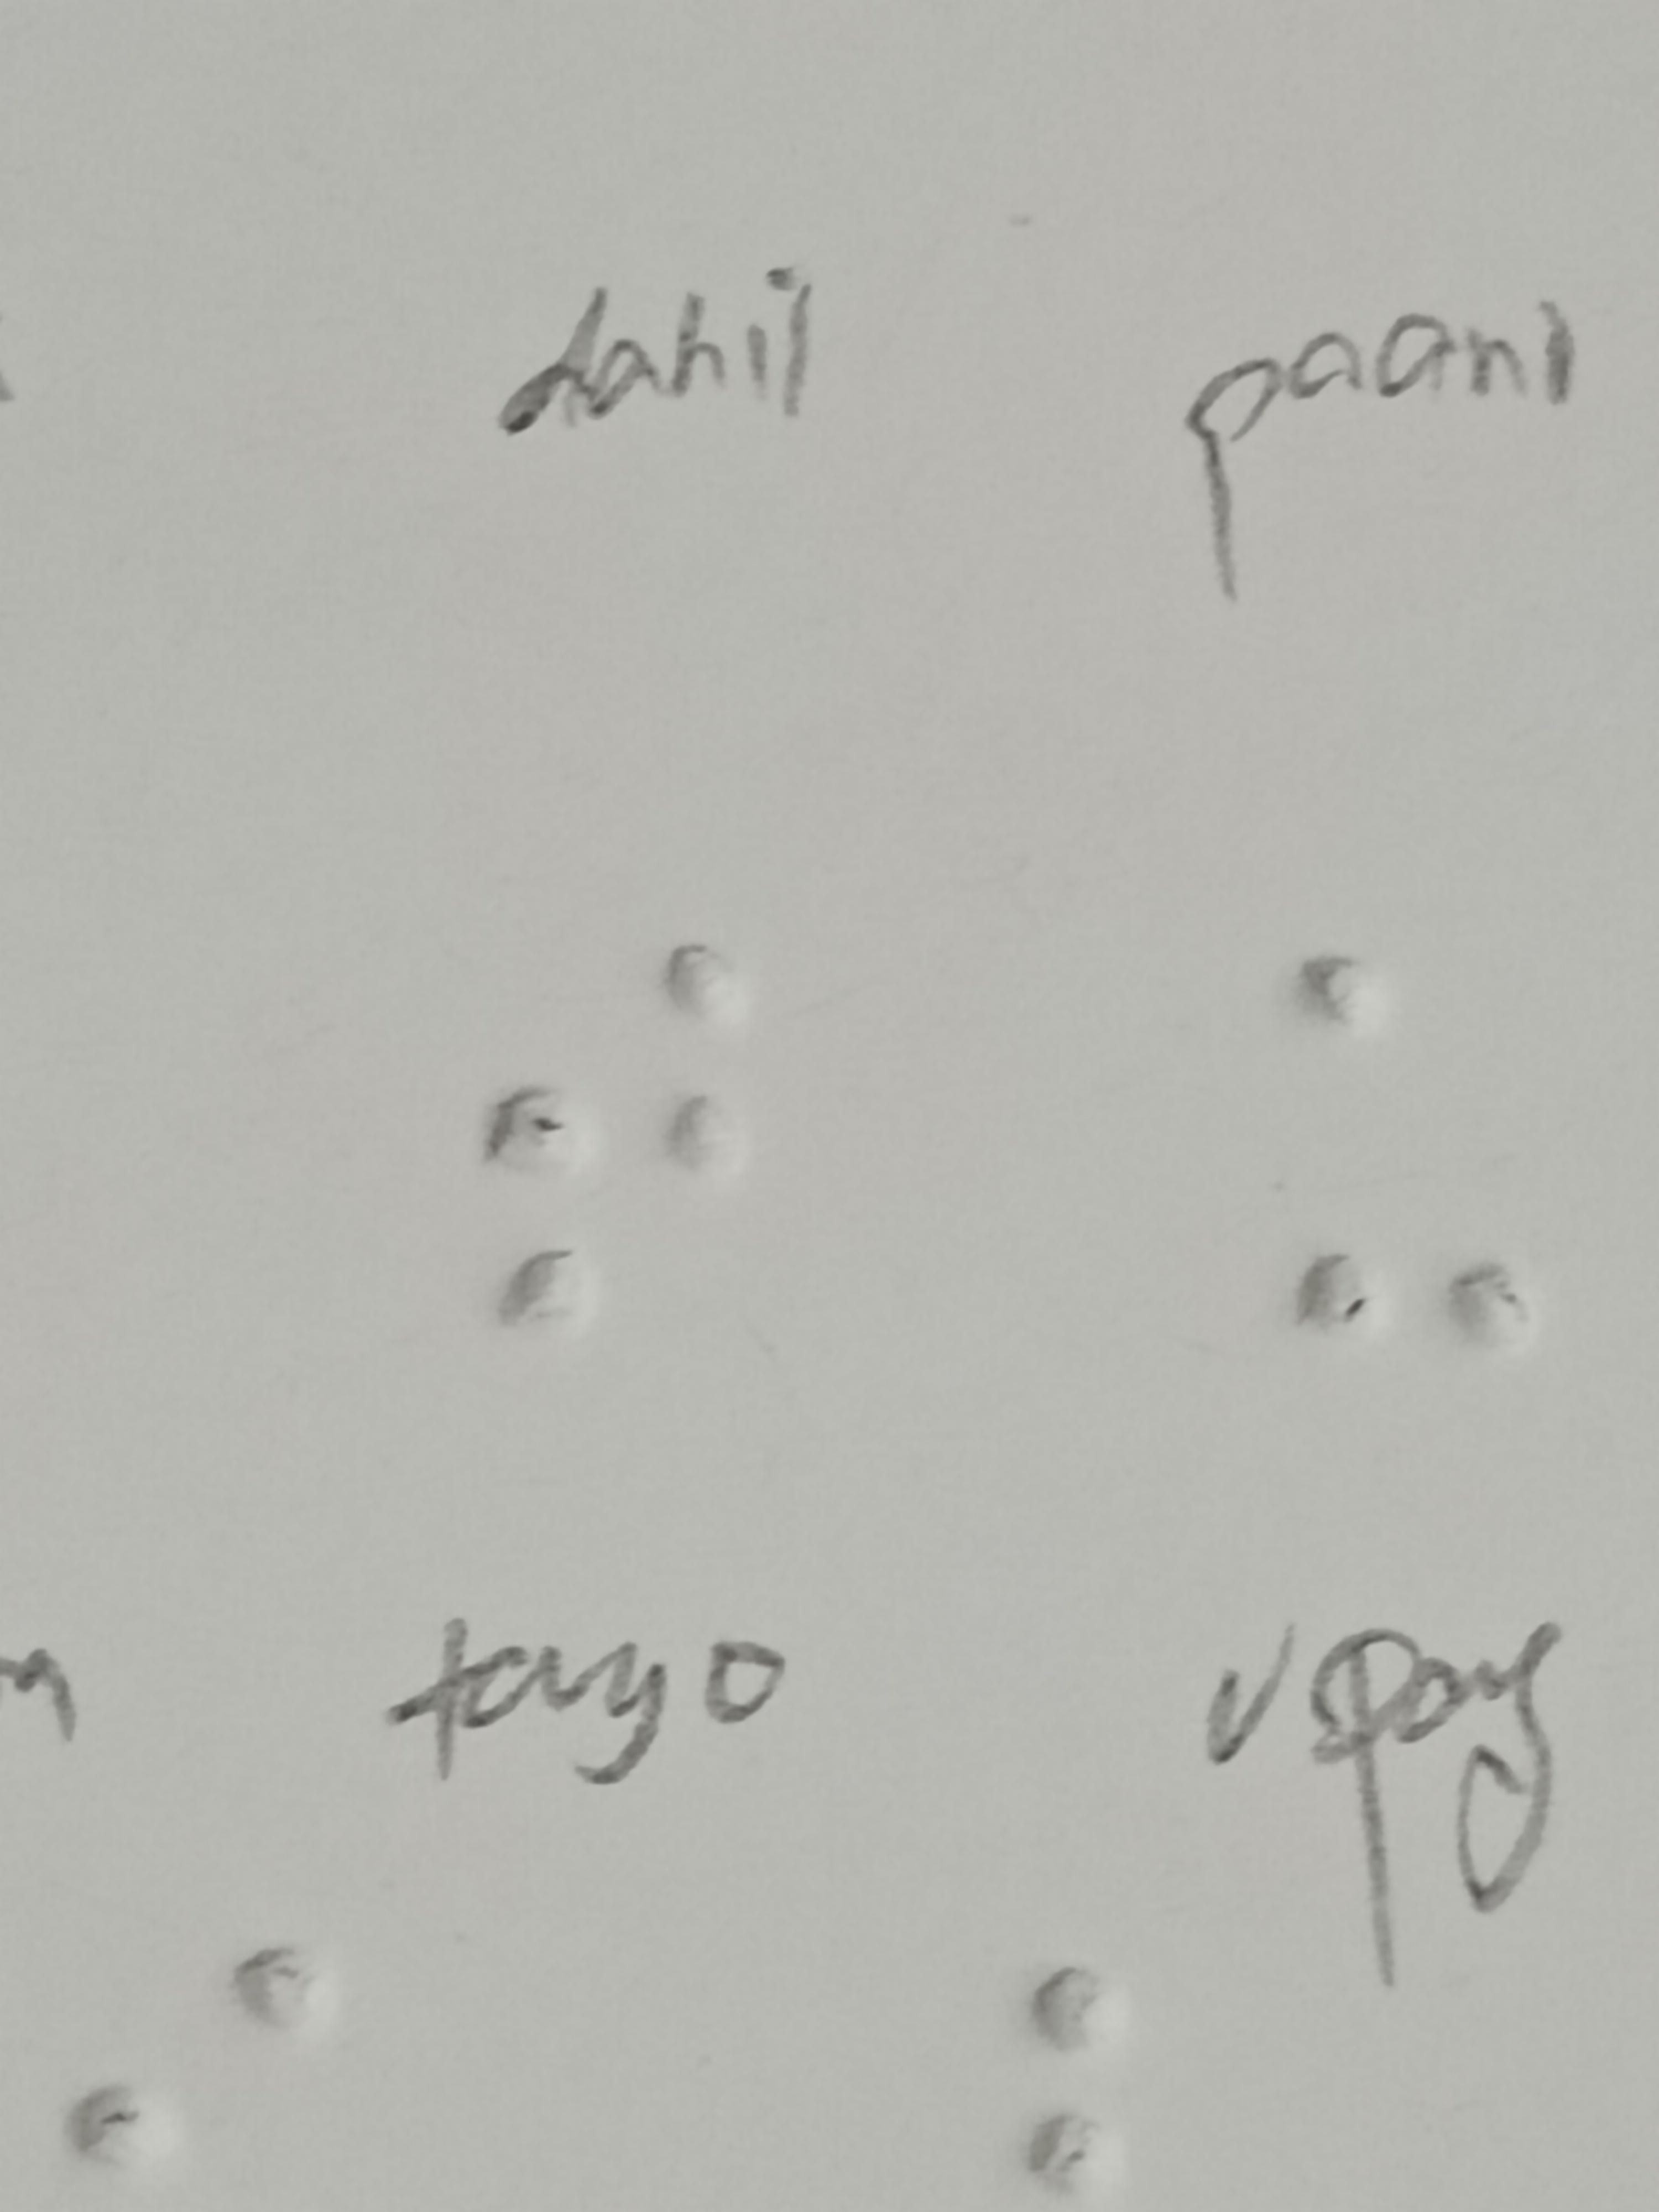one_cell_alphabet_tayo: (471, 920, 753, 1383)
one_cell_alphabet_upang: (1307, 958, 1541, 1348)
